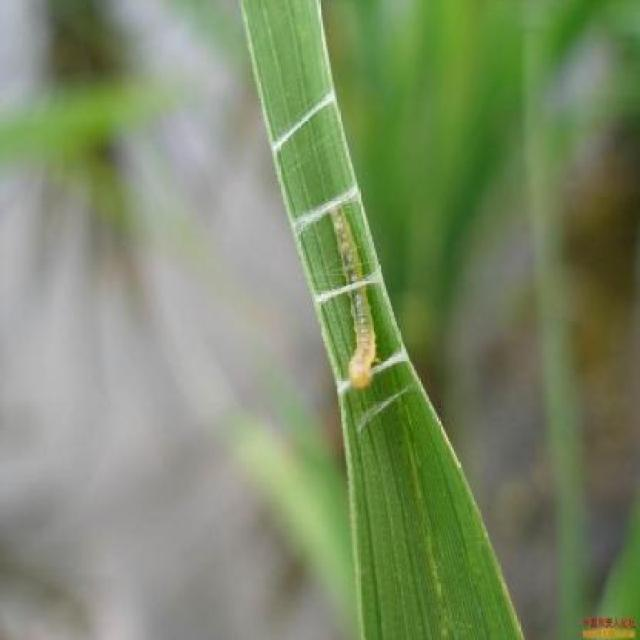leaf-folder: (320, 195, 388, 399)
